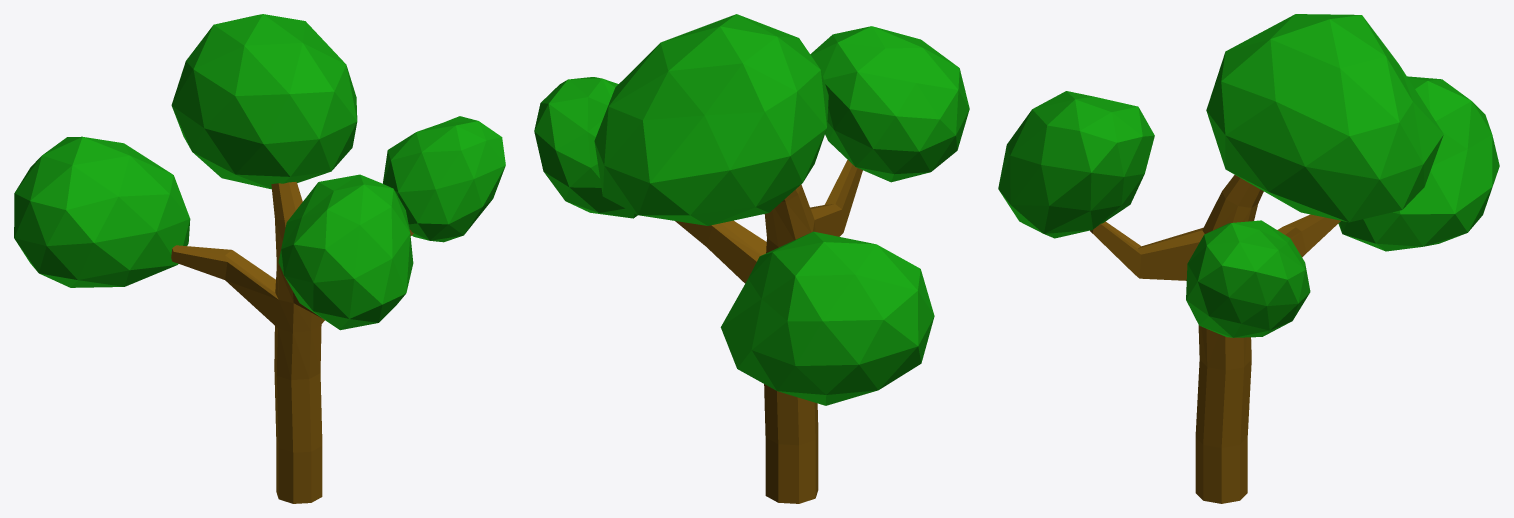
Rendered from arbol01_nu.dae.
3 renders of one model, left to right at view 1: azimuth 30°, elevation 25°; view 2: azimuth 150°, elevation 25°; view 3: azimuth 270°, elevation 25°, orthographic. The views are drawn at different scales.
Visible parts, largest first — view 1: arbol1-hoja1.001, arbol1-hoja3.002, arbol1-hoja4.001, arbol1-tronco.001, arbol1-hoja3.001; view 2: arbol1-hoja1.001, arbol1-hoja3.002, arbol1-hoja4.001, arbol1-tronco.001, arbol1-hoja3.001; view 3: arbol1-hoja1.001, arbol1-hoja4.001, arbol1-tronco.001, arbol1-hoja3.002, arbol1-hoja3.001.
Boxes of the visible parts, x1,y1,x2,y2 form: arbol1-hoja1.001: (171,14,357,189); arbol1-hoja3.002: (14,136,190,287); arbol1-hoja4.001: (278,174,413,330); arbol1-tronco.001: (171,182,413,503); arbol1-hoja3.001: (383,116,505,242); arbol1-hoja1.001: (594,14,828,225); arbol1-hoja3.002: (720,231,934,405); arbol1-hoja4.001: (810,26,969,182); arbol1-tronco.001: (675,159,862,503); arbol1-hoja3.001: (534,77,637,218); arbol1-hoja1.001: (1206,14,1443,222); arbol1-hoja4.001: (998,91,1154,238); arbol1-tronco.001: (1090,175,1340,503); arbol1-hoja3.002: (1338,76,1499,251); arbol1-hoja3.001: (1186,220,1310,337).
Size of the model in its own units: 7.07 by 7 by 7.4.
